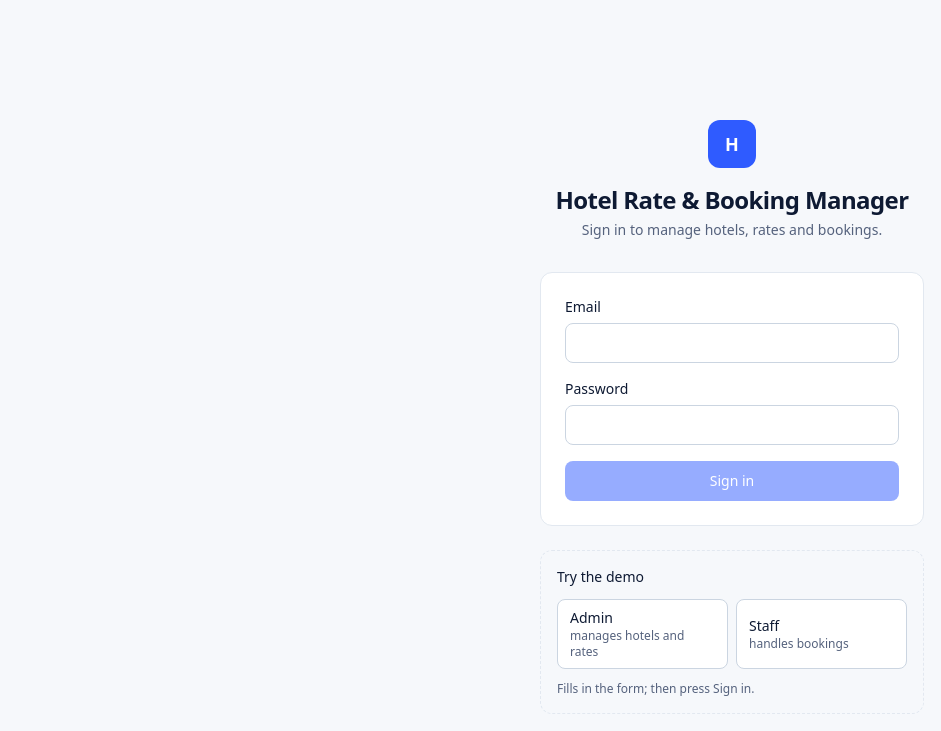
Scenario: LoginPage › signs in and goes to the dashboard
The image size is (941, 731).
// the demo button fills in the form
Click the button "Staff handles bookings".
click(822, 634)  # box [736,599,907,669]
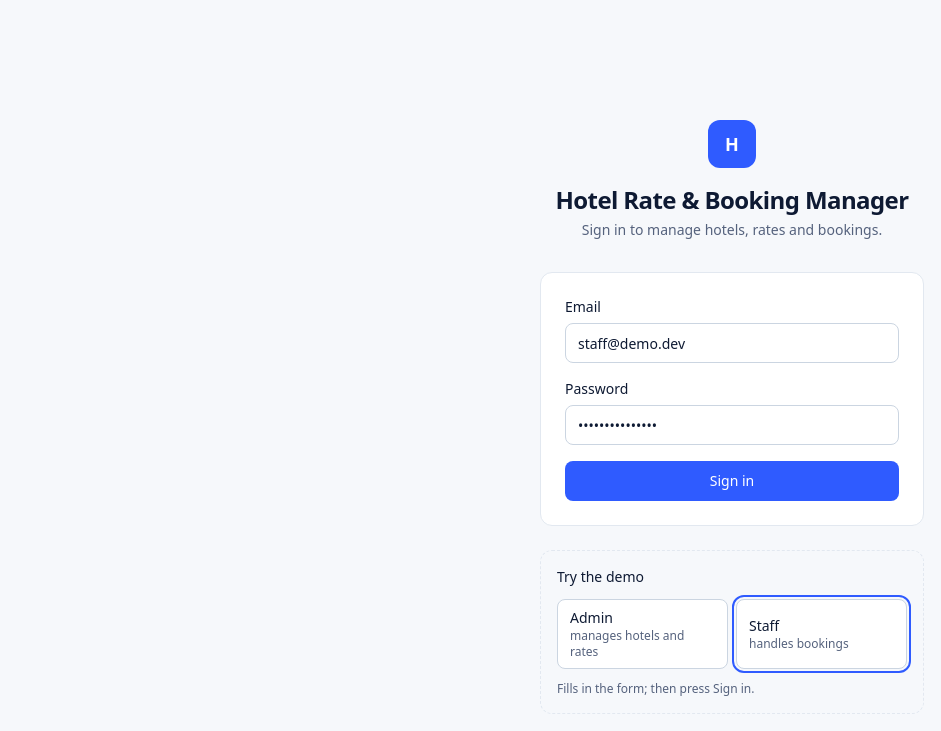
Click the button "Sign in".
click(732, 481)  # box [565,461,899,501]
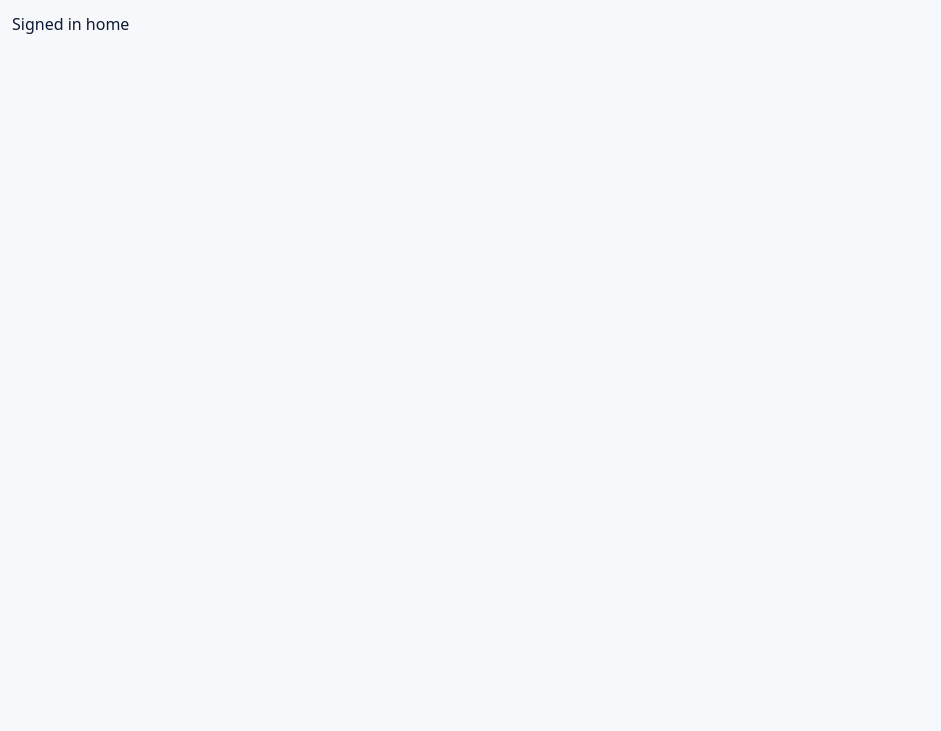
Result: the text "Signed in home" is shown at [12,13,129,35]
